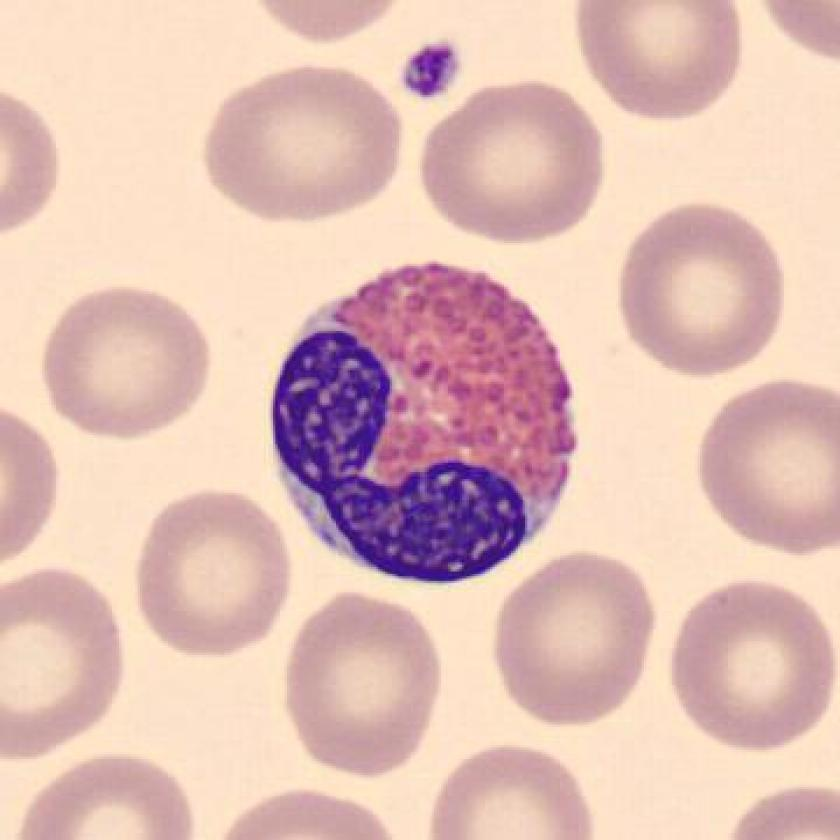eosinophil: (253, 253, 594, 598)
